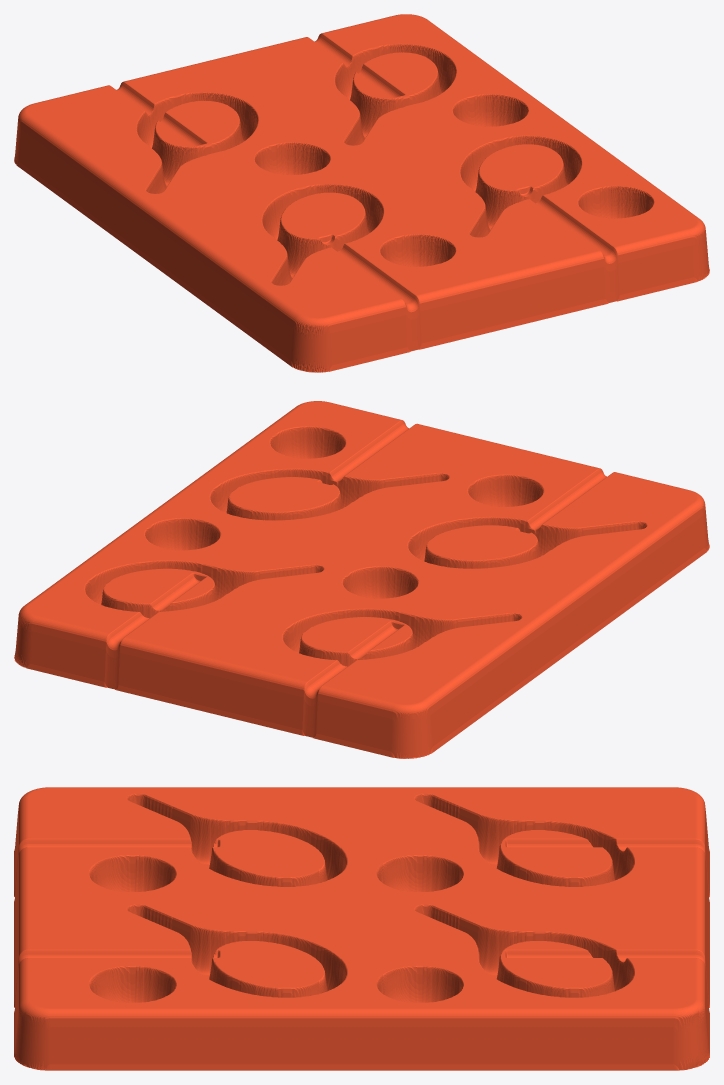
Rendered from mold.glb.
3 views of the same model, one above another, from view 1: azimuth 30°, elevation 25°; view 2: azimuth 150°, elevation 25°; view 3: azimuth 270°, elevation 25° (orthographic). The views are drawn at different scales.
Visible parts, largest first — view 1: geometry_0; view 2: geometry_0; view 3: geometry_0.
Boxes of the visible parts, bbox=[...] form: geometry_0: bbox=[14, 14, 709, 372]; geometry_0: bbox=[14, 401, 709, 758]; geometry_0: bbox=[14, 787, 709, 1070].
Size of the model in its own units: 0.137 by 0.0155 by 0.1735.
